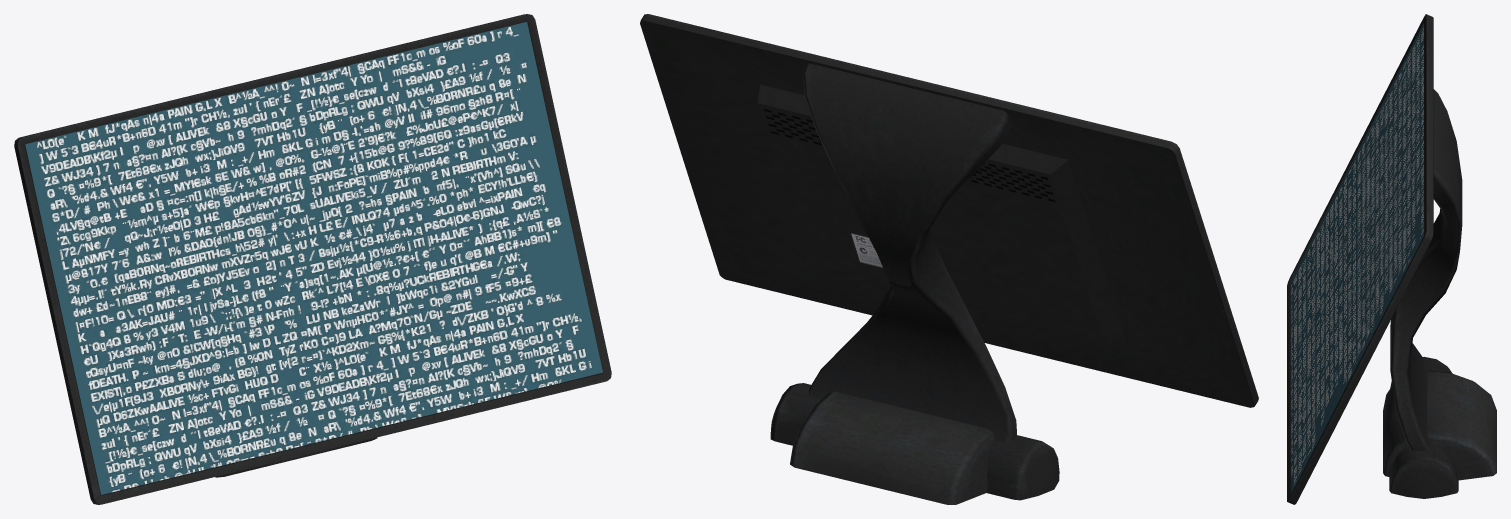
The model's file is monitor_large_main_gibberish.dae.
The picture shows the model from 3 angles, left to right: view 1: azimuth 30°, elevation 25°; view 2: azimuth 150°, elevation 25°; view 3: azimuth 270°, elevation 25°; orthographic projection. The views are drawn at different scales.
Visible parts, largest first — view 1: screen, monMain; view 2: monMain; view 3: screen, monMain.
Boxes of the visible parts, x1,y1,x2,y2 form: screen: [25, 22, 602, 494]; monMain: [14, 14, 611, 504]; monMain: [640, 14, 1258, 504]; screen: [1291, 23, 1423, 492]; monMain: [1287, 14, 1496, 504].
Size of the model in its own units: 1.03 by 0.695 by 0.4123.
